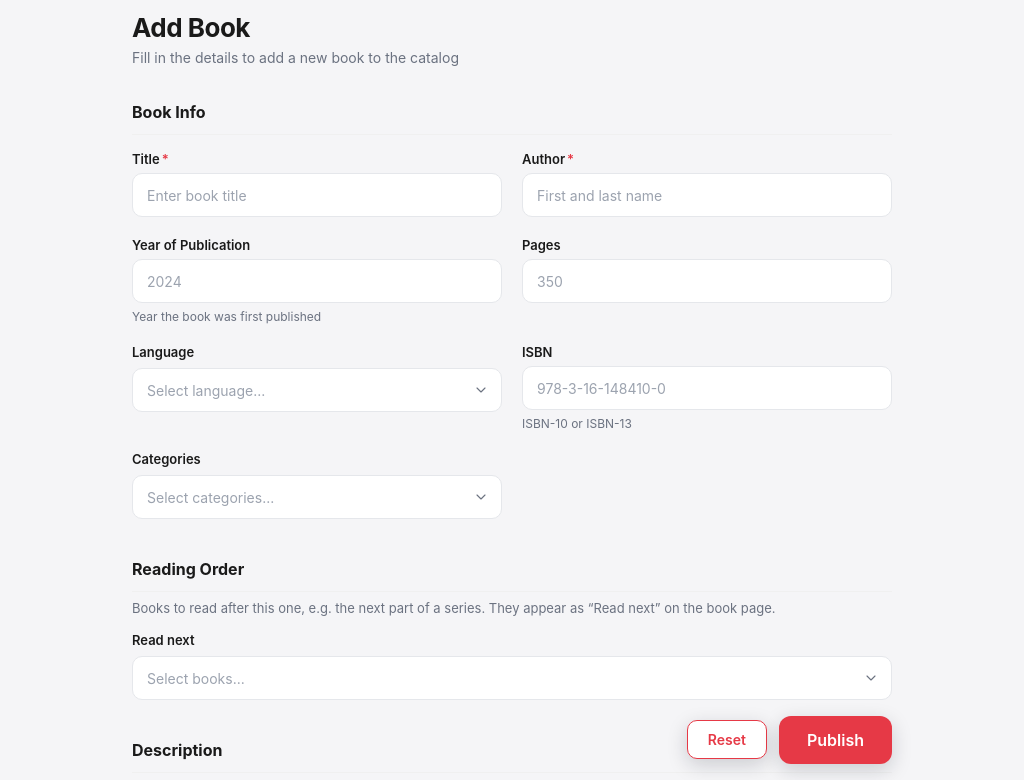
Test: PostConstructor › admin form › resets title field when Reset is clicked
Step 1. Type "My Book" into the field labelled "Title*" → (317,195), box 132,173 -> 502,217
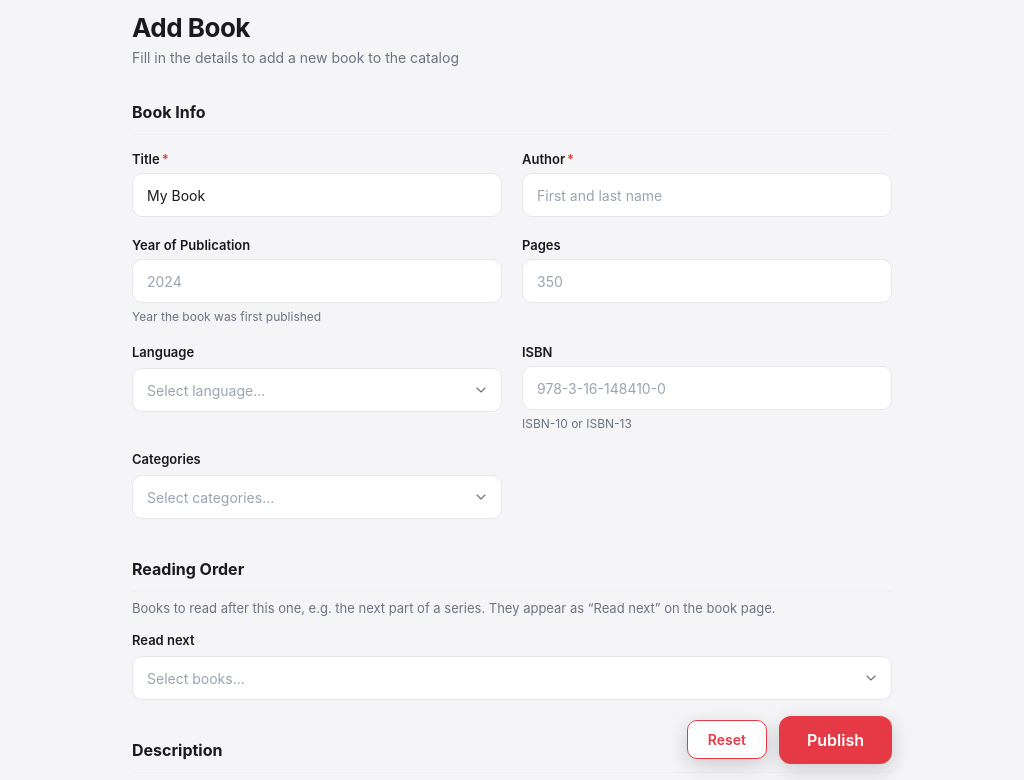
Step 2. Click the button "Reset" → (727,740), box 687,720 -> 767,760
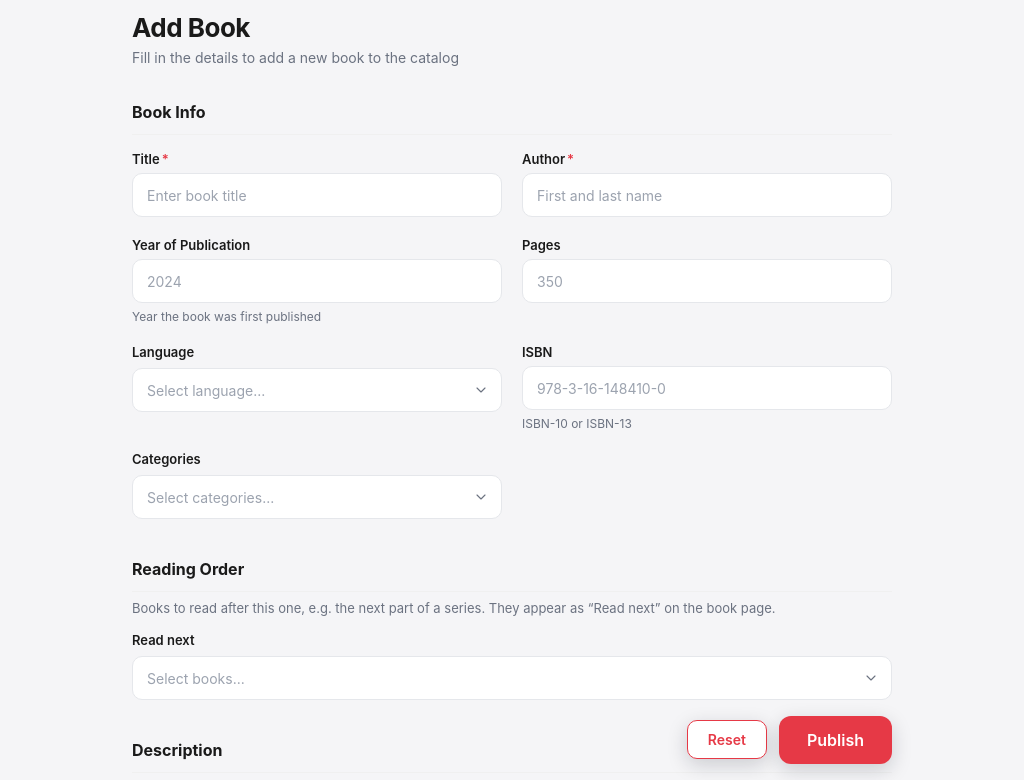
Expected: the field labelled "Title*" is empty, 132,173 -> 502,217
